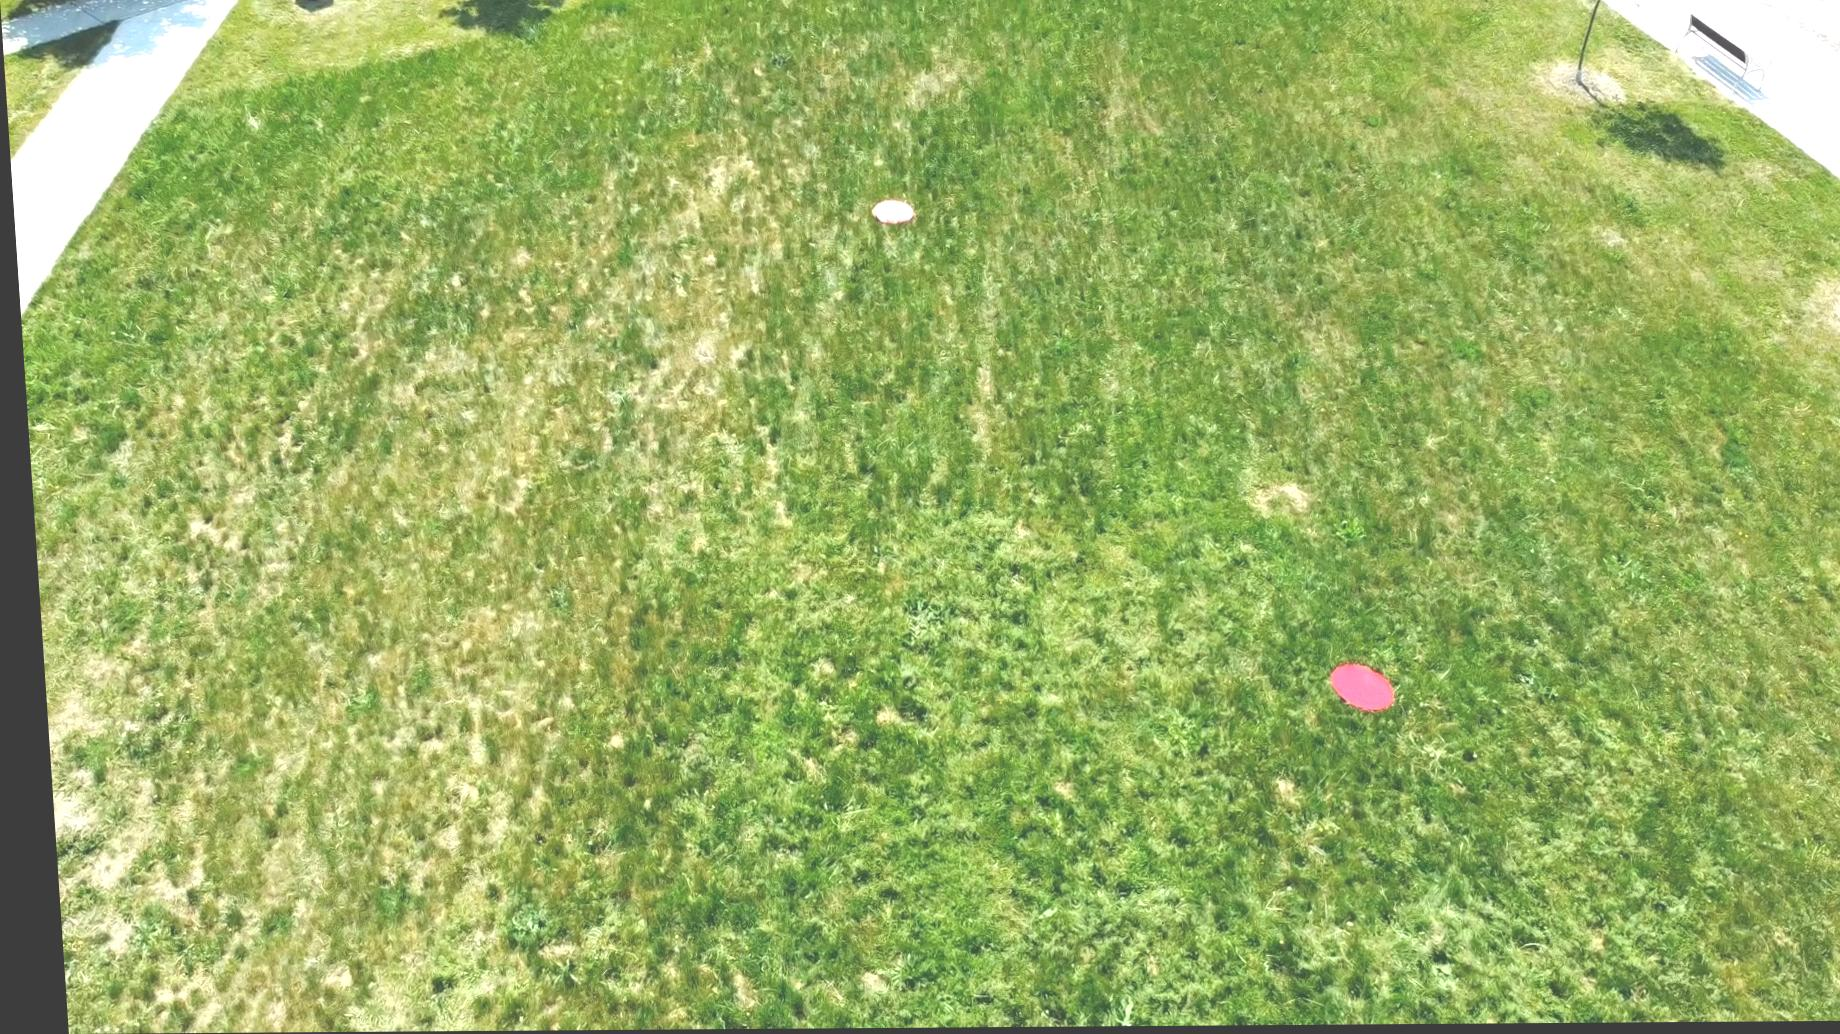Red: (1318, 660, 1386, 715), (867, 200, 916, 228)
